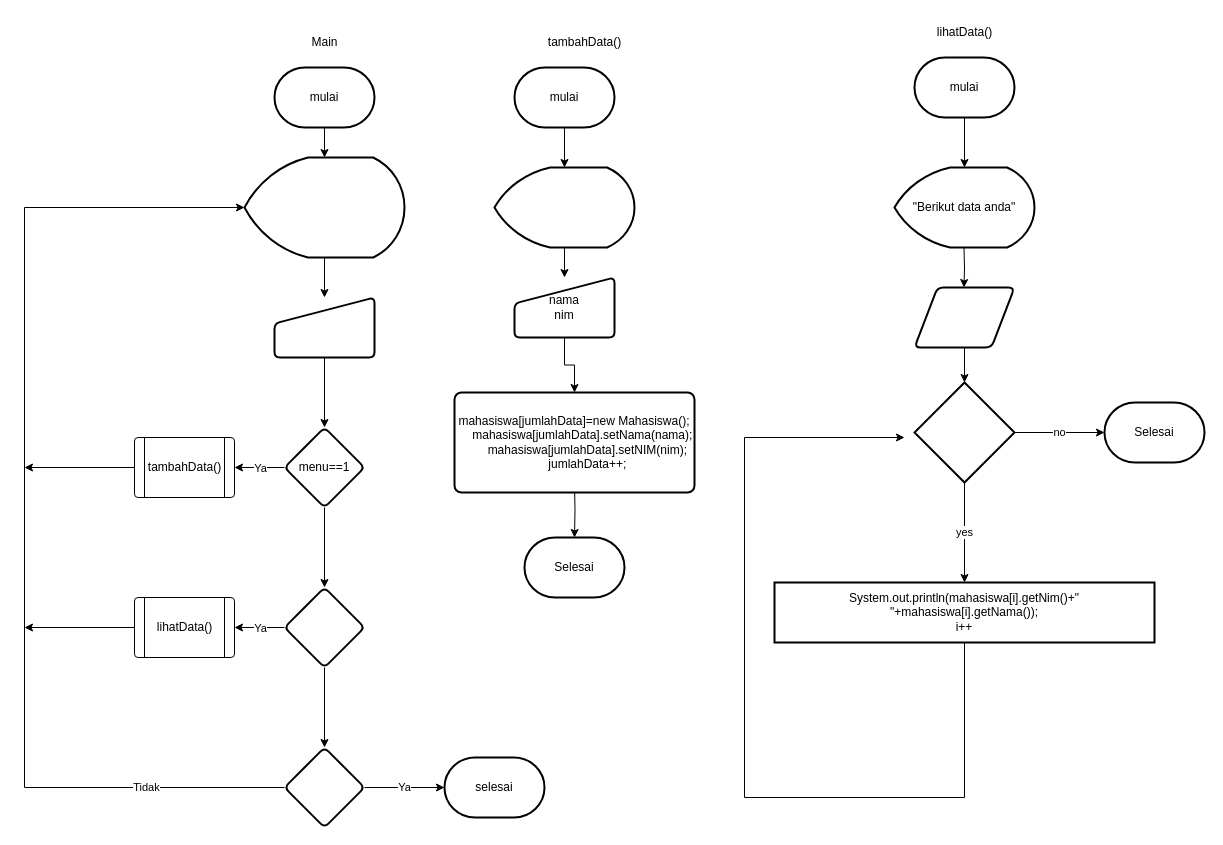
Some shapes in this 1223 by 845 pixel diagram are drawn without their labels. The shapes that lost their labels are listed below. From the top down, each one's centre as x and y in pixels, then its label:
(x=324, y=207): "Menu Siakad 1. Tambah Data 2. Lihat Data 3. Keluar Pilih menu= "
(x=564, y=207): "Silahkan Tambah Data"
(x=324, y=327): menu
(x=964, y=317): i=0
(x=964, y=432): i<=jumlah
(x=324, y=627): menu==2
(x=324, y=787): menu==3
